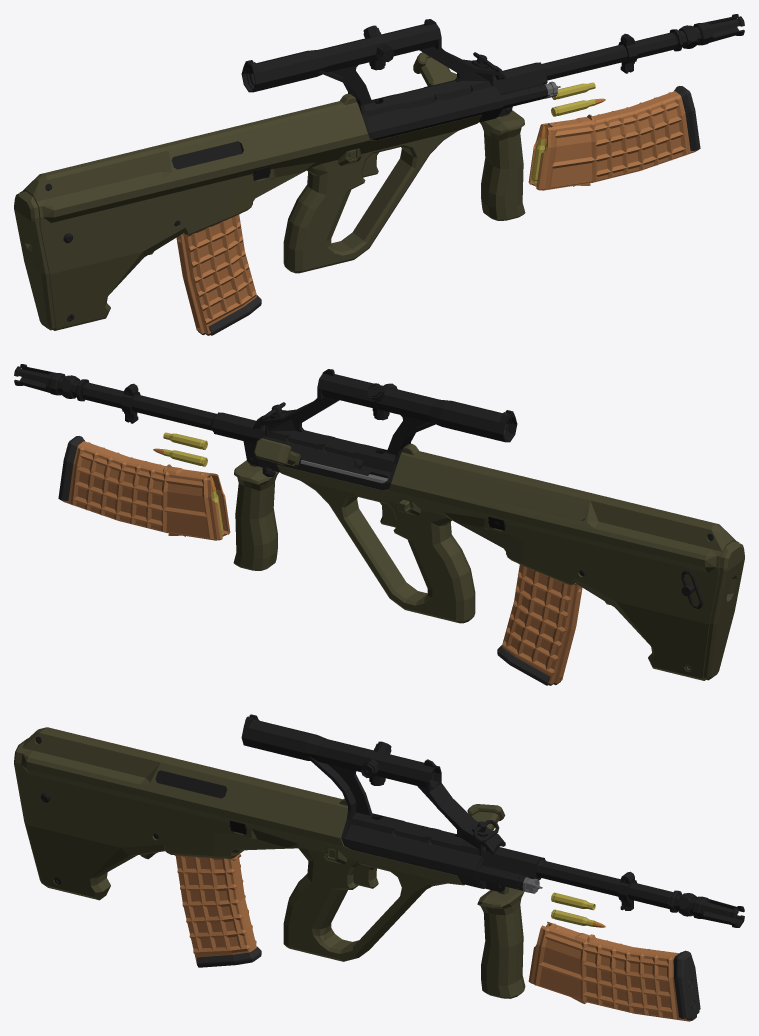
Rendered from low-poly_aug_a1.glb.
3 renders of one model, top to bottom at view 1: azimuth 30°, elevation 25°; view 2: azimuth 150°, elevation 25°; view 3: azimuth 330°, elevation 25°, orthographic.
Parts seen in each view (by area): view 1: aug1 stock_8, aug1 receiver_6, 55645 aug 30rnd empty mag_3, 55645 aug 30rnd empty mag.001_2, aug1 barrel_4, aug1 foregrip_5, aug1 flash hider_7, aug1 bolt carrier_12, aug1 reload hanlde_13; view 2: aug1 stock_8, aug1 receiver_6, 55645 aug 30rnd empty mag_3, 55645 aug 30rnd empty mag.001_2, aug1 barrel_4, aug1 foregrip_5, aug1 flash hider_7, aug1 reload hanlde_13; view 3: aug1 stock_8, aug1 receiver_6, 55645 aug 30rnd empty mag_3, 55645 aug 30rnd empty mag.001_2, aug1 barrel_4, aug1 foregrip_5, aug1 flash hider_7, aug1 bolt carrier_12, aug1 reload hanlde_13.
Part boxes in pixels (x1=…): aug1 stock_8: x1=14, y1=93, x2=481, y2=330; aug1 receiver_6: x1=240, y1=19, x2=505, y2=151; 55645 aug 30rnd empty mag_3: x1=528, y1=86, x2=700, y2=190; 55645 aug 30rnd empty mag.001_2: x1=176, y1=214, x2=261, y2=335; aug1 barrel_4: x1=377, y1=32, x2=678, y2=117; aug1 foregrip_5: x1=480, y1=110, x2=525, y2=220; aug1 flash hider_7: x1=669, y1=14, x2=744, y2=51; aug1 bolt carrier_12: x1=171, y1=141, x2=242, y2=169; aug1 reload hanlde_13: x1=413, y1=52, x2=456, y2=85; aug1 stock_8: x1=277, y1=443, x2=744, y2=680; aug1 receiver_6: x1=253, y1=369, x2=517, y2=490; 55645 aug 30rnd empty mag_3: x1=58, y1=436, x2=230, y2=540; 55645 aug 30rnd empty mag.001_2: x1=497, y1=564, x2=582, y2=685; aug1 barrel_4: x1=80, y1=382, x2=381, y2=467; aug1 foregrip_5: x1=233, y1=460, x2=278, y2=570; aug1 flash hider_7: x1=14, y1=364, x2=89, y2=401; aug1 reload hanlde_13: x1=253, y1=438, x2=301, y2=466; aug1 stock_8: x1=14, y1=727, x2=464, y2=961; aug1 receiver_6: x1=241, y1=714, x2=505, y2=888; 55645 aug 30rnd empty mag_3: x1=528, y1=921, x2=700, y2=1021; 55645 aug 30rnd empty mag.001_2: x1=175, y1=854, x2=261, y2=967; aug1 barrel_4: x1=372, y1=818, x2=673, y2=910; aug1 foregrip_5: x1=477, y1=887, x2=525, y2=998; aug1 flash hider_7: x1=668, y1=890, x2=744, y2=927; aug1 bolt carrier_12: x1=155, y1=770, x2=227, y2=798; aug1 reload hanlde_13: x1=467, y1=804, x2=505, y2=830.
Bounding box in the file's own units: 7.88 × 2.74 × 0.9209.
